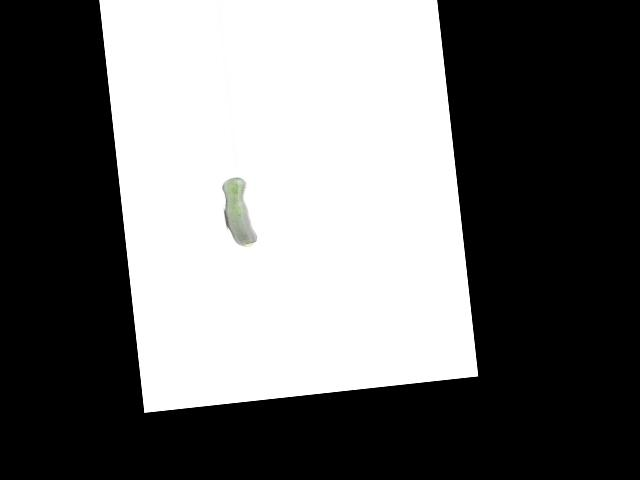cucumber: (221, 176, 257, 249)
